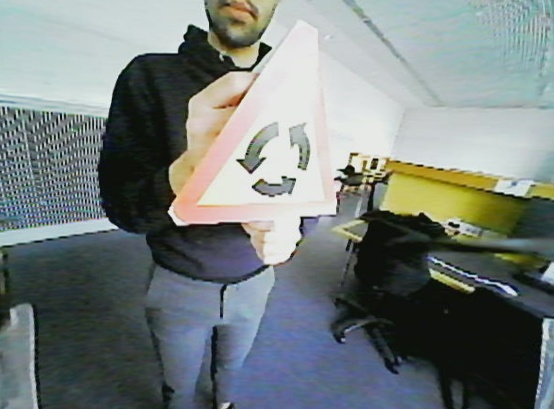roundabout_warning: (167, 17, 342, 224)
